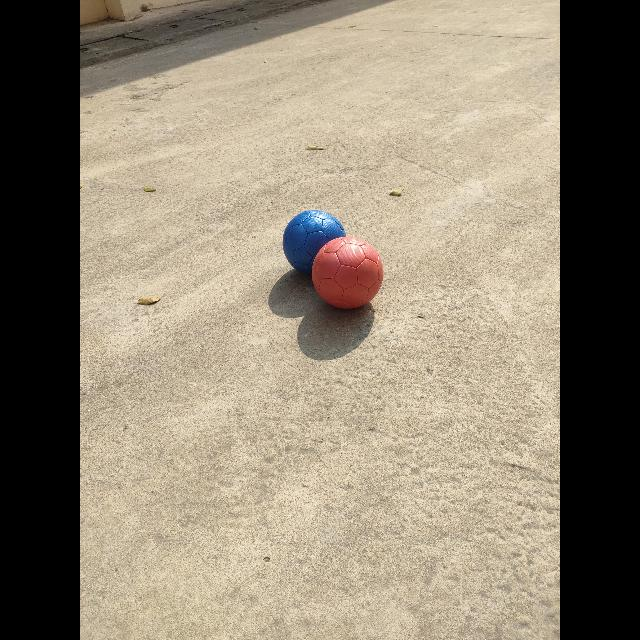B: (282, 210, 346, 275)
R: (312, 237, 384, 309)
